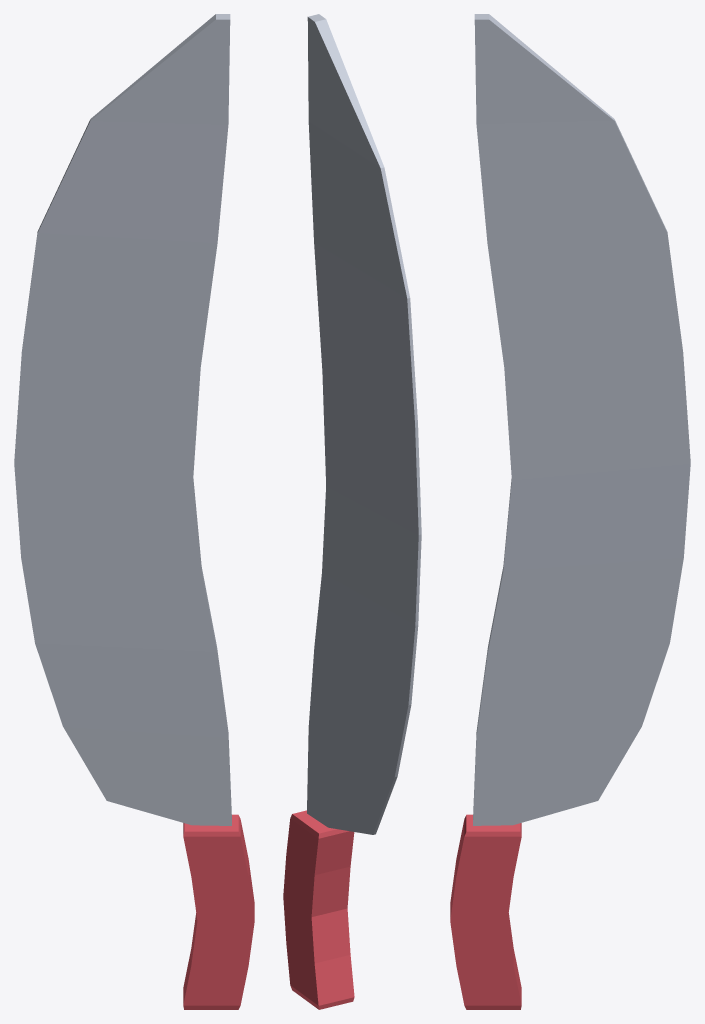
Rendered from Machete.fbx.
3 views of the same model, side by side, from view 1: azimuth 90°, elevation 25°; view 2: azimuth 210°, elevation 25°; view 3: azimuth 270°, elevation 25° (orthographic).
Parts seen in each view (by area): view 1: Plane; view 2: Plane; view 3: Plane.
Boxes of the visible parts, x1,y1,x2,y2 form: Plane: [14, 14, 254, 1009]; Plane: [283, 14, 421, 1009]; Plane: [450, 14, 690, 1009].
Size of the model in its own units: 44 by 1137 by 252.
